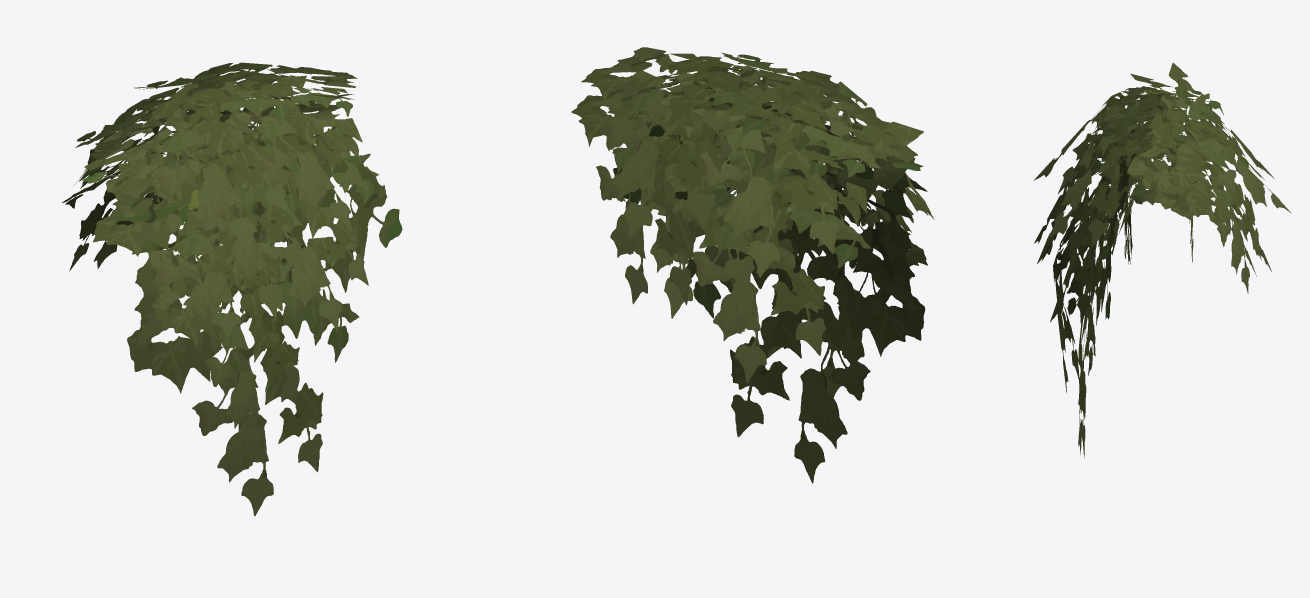
3 renders of one model, left to right at view 1: azimuth 30°, elevation 25°; view 2: azimuth 150°, elevation 25°; view 3: azimuth 270°, elevation 25°, orthographic. The views are drawn at different scales.
Parts seen in each view (by area): view 1: body0_model0_lod0_mesh0; view 2: body0_model0_lod0_mesh0; view 3: body0_model0_lod0_mesh0.
Boxes of the visible parts, left/top/right/bottom form: body0_model0_lod0_mesh0: left=62, top=62, right=402, bottom=516; body0_model0_lod0_mesh0: left=571, top=47, right=934, bottom=483; body0_model0_lod0_mesh0: left=1033, top=63, right=1291, bottom=457.
Size of the model in its own units: 69.9 by 71.42 by 43.8.
1 material, 1 textured.
